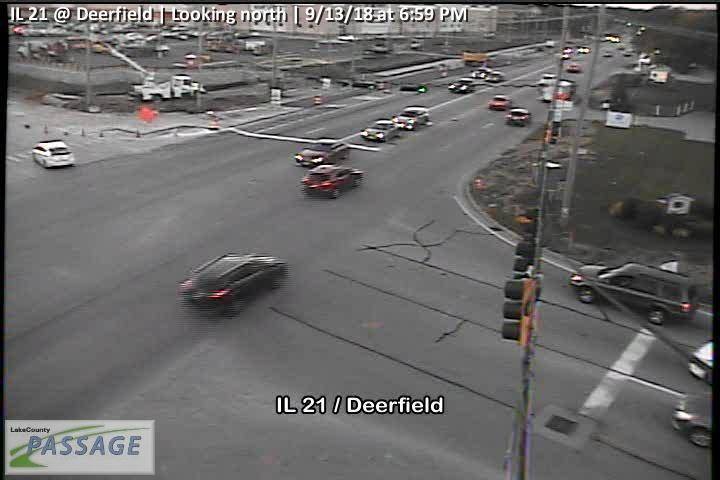SUV: (569, 263, 695, 323), (178, 254, 289, 319)
Sedan: (302, 165, 362, 198), (292, 137, 350, 167), (31, 141, 74, 167), (360, 117, 401, 141), (395, 104, 427, 127), (485, 95, 511, 109), (507, 108, 529, 124), (446, 78, 472, 91)
